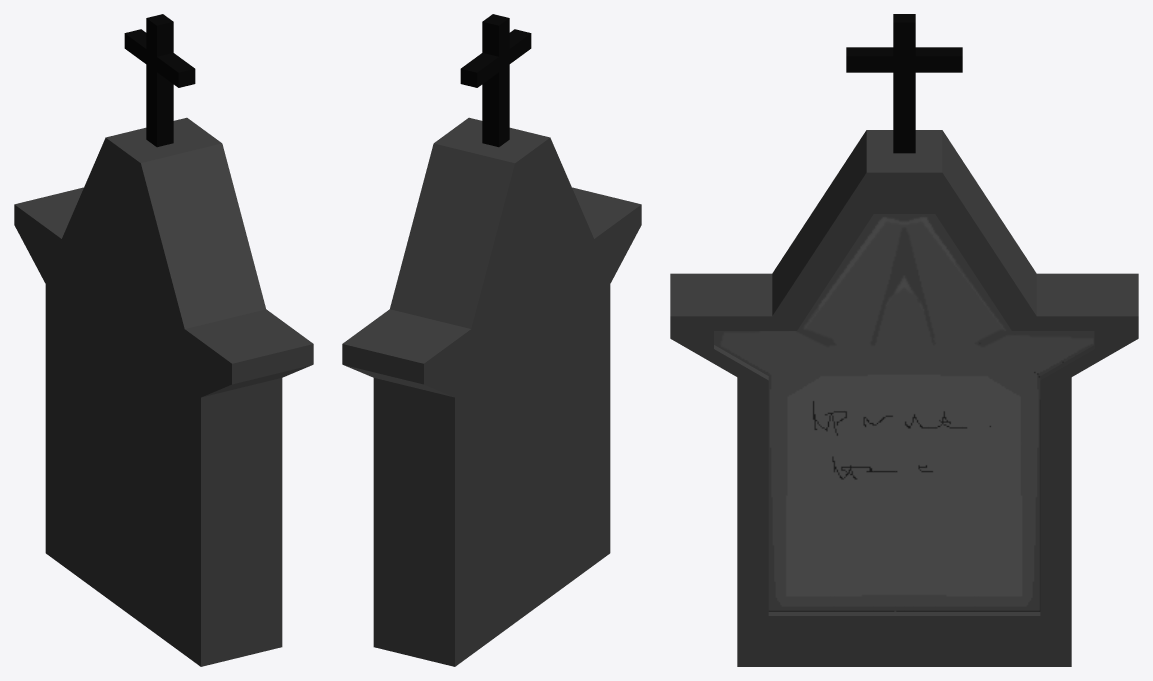
File: grob1.glb
3 views of the same model, side by side, from view 1: azimuth 30°, elevation 25°; view 2: azimuth 150°, elevation 25°; view 3: azimuth 270°, elevation 25° (orthographic). The views are drawn at different scales.
Visible parts, largest first — view 1: Cube.002; view 2: Cube.002; view 3: Cube.002.
Boxes of the visible parts, x1,y1,x2,y2 form: Cube.002: [14, 14, 313, 666]; Cube.002: [342, 14, 641, 666]; Cube.002: [670, 14, 1138, 666].
Bounding box in the file's own units: 0.5588 × 3.81 × 2.59.
Materials: 3 (1 with a texture image).
